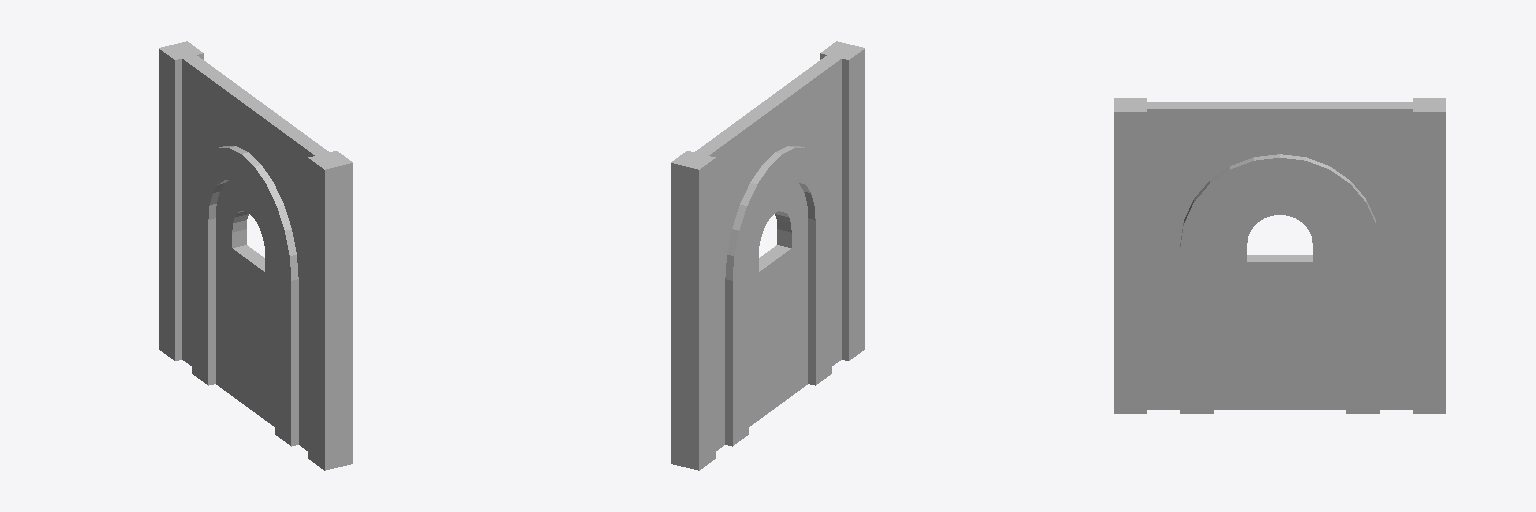
The model's file is wallWoodDoor.obj.
The picture shows the model from 3 angles: view 1: azimuth 30°, elevation 25°; view 2: azimuth 150°, elevation 25°; view 3: azimuth 270°, elevation 25°; orthographic projection.
Parts seen in each view (by area): view 1: wallWoodDoor, door; view 2: wallWoodDoor, door; view 3: wallWoodDoor, door.
Boxes of the visible parts, x1=… form: wallWoodDoor: x1=159, y1=41, x2=352, y2=470; door: x1=216, y1=180, x2=274, y2=426; wallWoodDoor: x1=671, y1=41, x2=864, y2=470; door: x1=749, y1=180, x2=807, y2=426; wallWoodDoor: x1=1114, y1=98, x2=1445, y2=413; door: x1=1214, y1=188, x2=1345, y2=409.
Size of the model in its own units: 0.1 by 1 by 1.